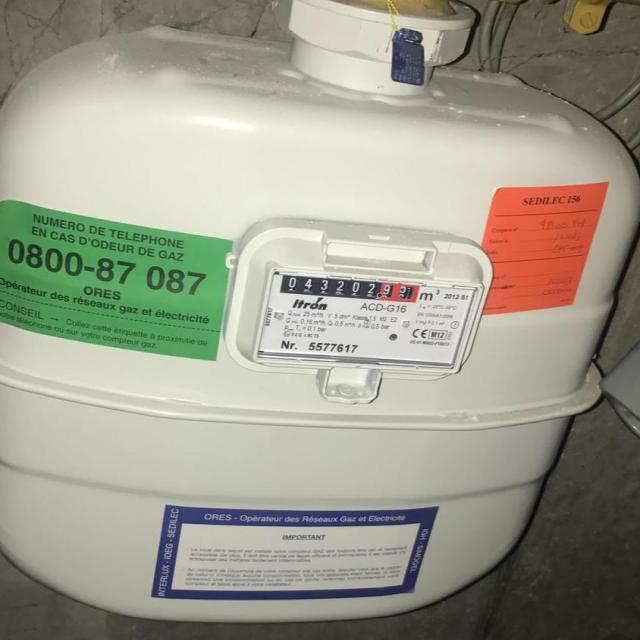gaz_meter: (258, 265, 482, 370)
indication: (278, 270, 424, 305)
